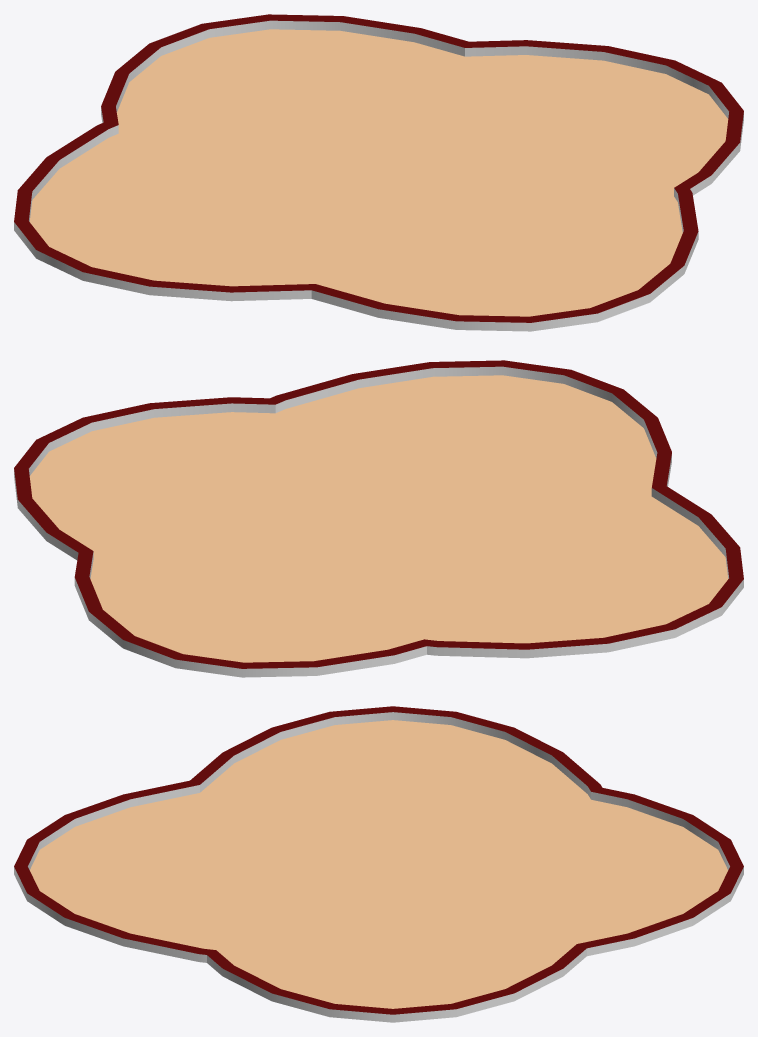
Rendered from BaitArena.fbx.
3 views of the same model, one above another, from view 1: azimuth 30°, elevation 25°; view 2: azimuth 150°, elevation 25°; view 3: azimuth 270°, elevation 25° (orthographic). The views are drawn at different scales.
Parts seen in each view (by area): view 1: Model; view 2: Model; view 3: Model.
Boxes of the visible parts, x1,y1,x2,y2 form: Model: [14, 14, 743, 331]; Model: [14, 360, 743, 677]; Model: [14, 706, 743, 1022].
Size of the model in its own units: 249 by 3 by 249.
